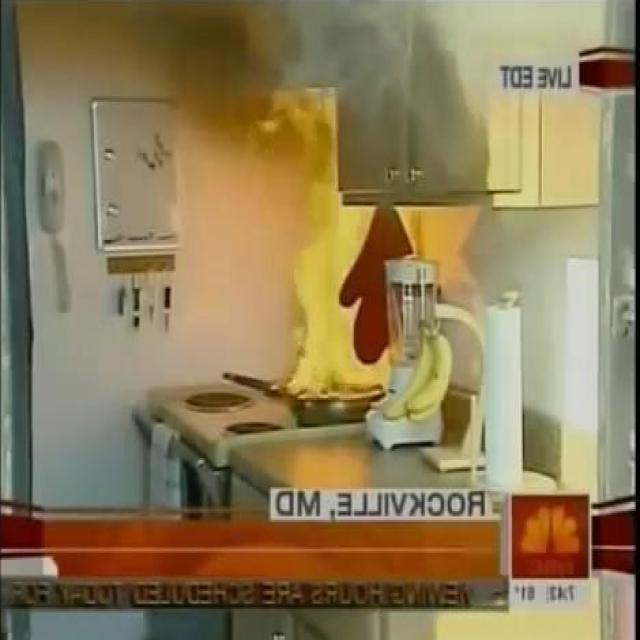fire: (250, 0, 635, 125)
smoke: (264, 84, 418, 393)
